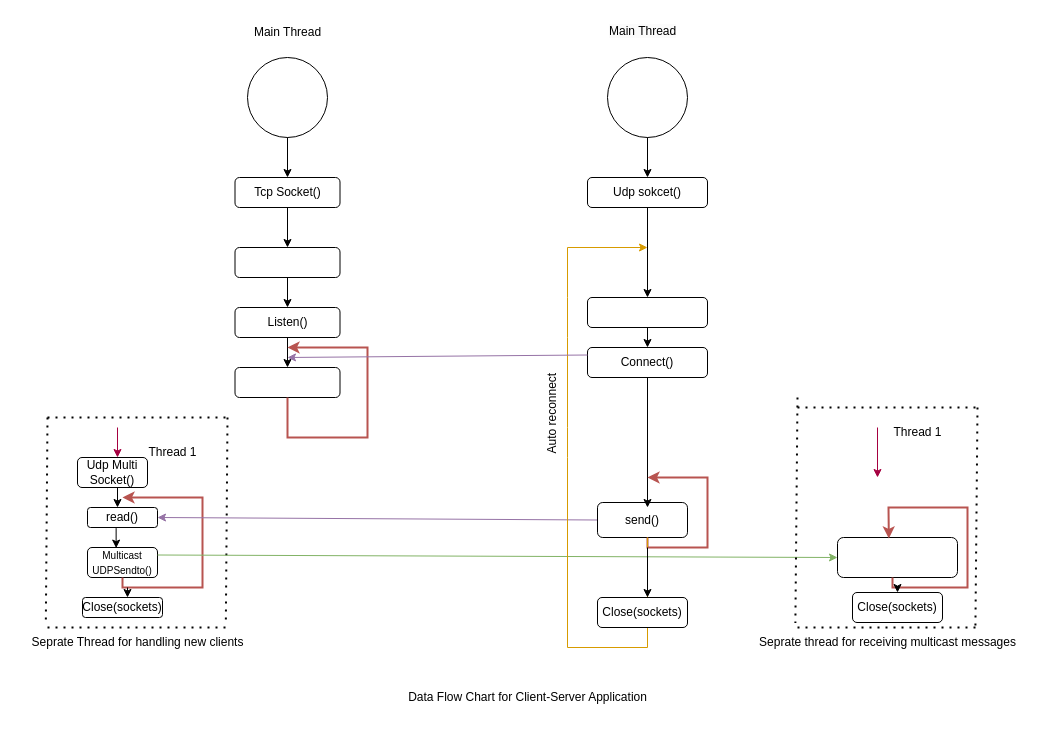
This 1044x729 diagram has some shape labels left out. Here are the shapes that lost their labels. From the top down, the centre of each, then its label:
At pixel 287 97: "Server".
At pixel 647 97: "Client".
At pixel 287 262: "bind()".
At pixel 647 312: "Tcp sokcet()".
At pixel 287 382: "accept()".
At pixel 897 557: "recvfrom()".
